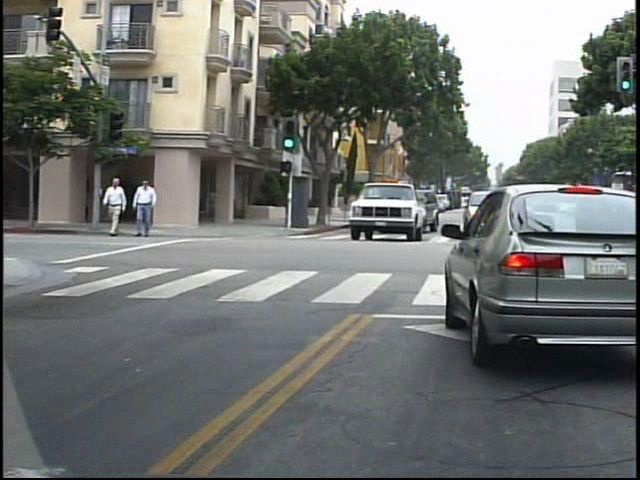person: (107, 171, 137, 242), (138, 174, 167, 241)
